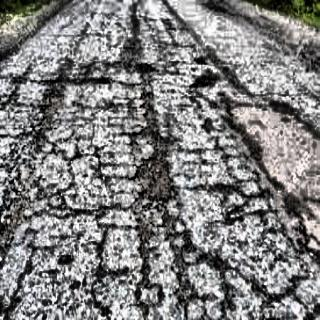alligator-crack: (93, 218, 318, 320), (187, 148, 260, 216), (86, 105, 129, 217), (3, 131, 84, 184), (27, 193, 93, 242), (262, 165, 318, 218), (152, 15, 190, 86), (2, 96, 30, 126)
crack: (2, 269, 31, 320)
pothole: (131, 152, 183, 210), (0, 191, 26, 266), (32, 86, 70, 132), (123, 119, 184, 144), (38, 69, 113, 89), (104, 56, 161, 81), (222, 60, 252, 97), (191, 67, 220, 94), (139, 82, 160, 116), (268, 99, 298, 117), (121, 35, 149, 54), (125, 5, 144, 32), (200, 114, 219, 136), (9, 72, 29, 92), (194, 54, 214, 66)
